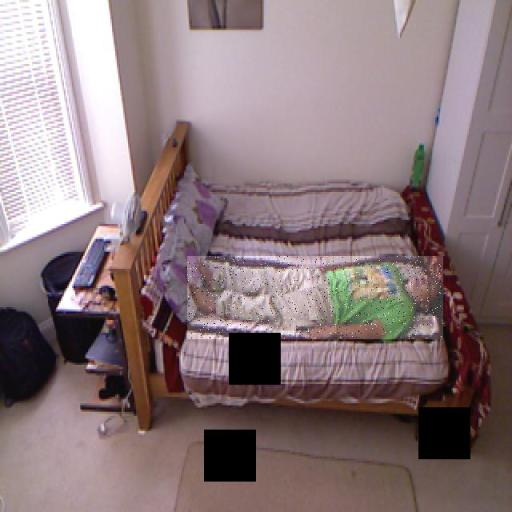Fall: (187, 256, 443, 339)
